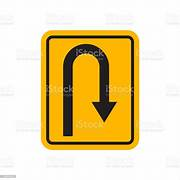back: (40, 29, 141, 150)
